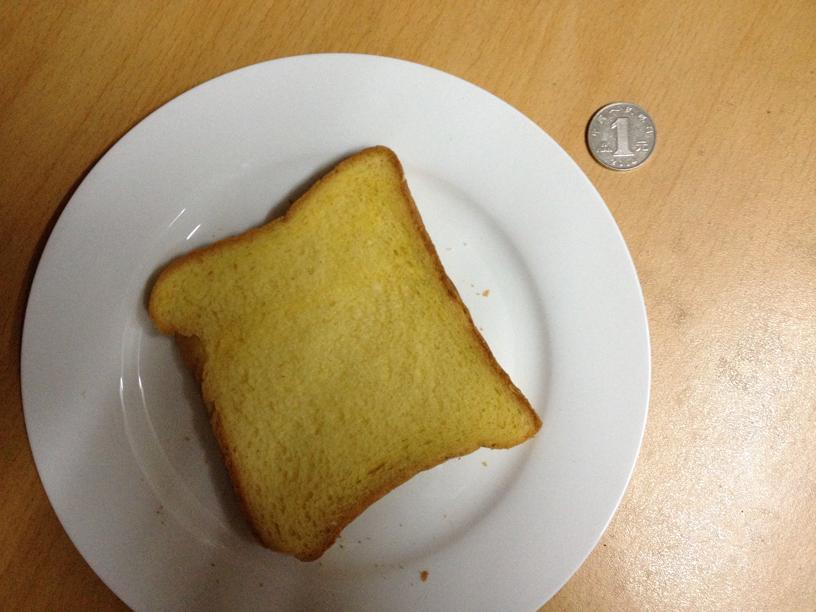bread: (139, 134, 544, 561)
coin: (586, 100, 655, 170)
